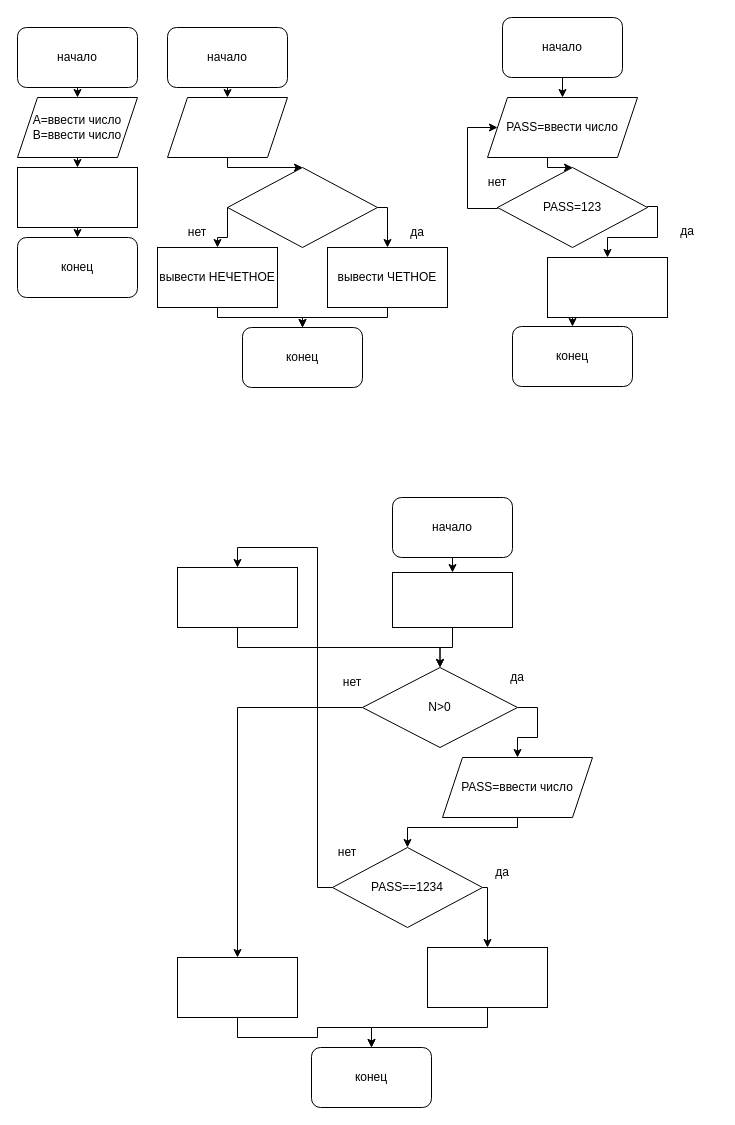
Image size: 735x1125. Some labels were removed from this diagram. Here are the shapes that lost their labels. From the top down, the centre of each, then its label:
the point at 227,127: А=ввести число
the point at 77,197: вывести A+B
the point at 302,207: A%2=0
the point at 607,287: вывести Привет, мир!
the point at 237,597: N-=1
the point at 452,600: N=3 попытки
the point at 237,987: отказать клиенту
the point at 487,977: дать денег кожаному
